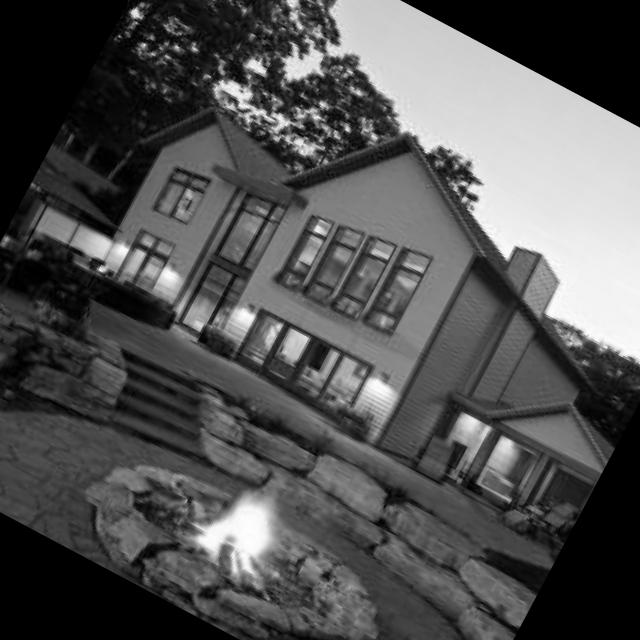fire: (183, 467, 315, 600)
